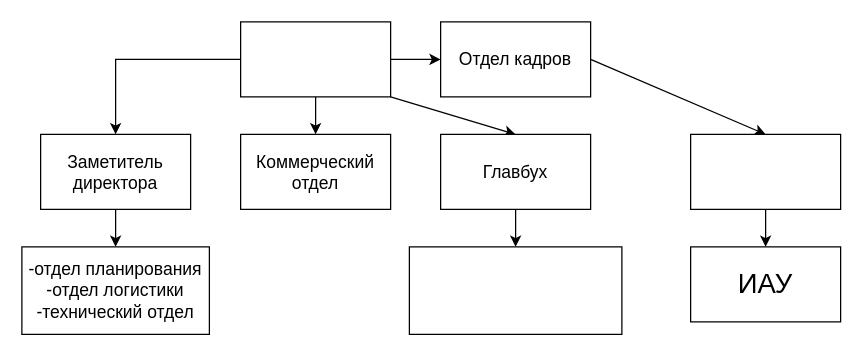
Some shapes in this 863 by 356 pixel diagram are drawn without their labels. The centre of each missing label's shape, as x and y in pixels:
"-бухгалтерия -планово-экономический отдел" goes at point (515, 290).
"Генеральный деректор" goes at point (315, 59).
"Отдел сбыта" goes at point (765, 171).
